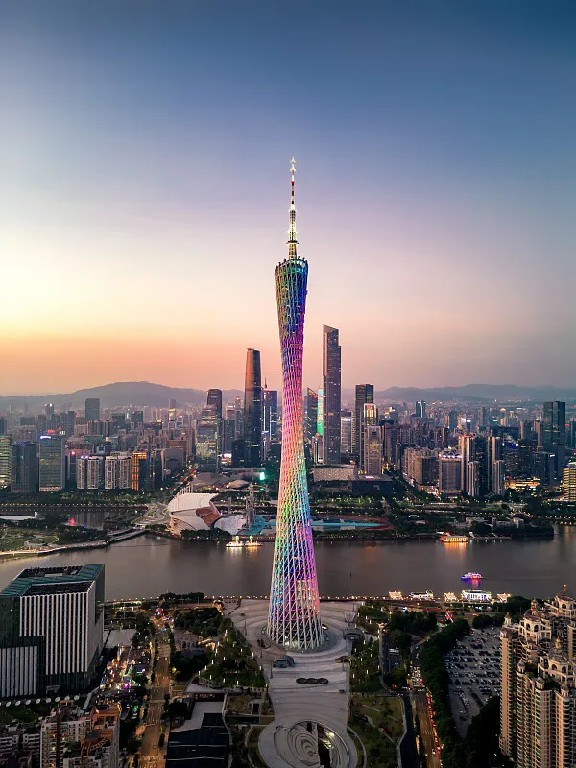Canton: (264, 155, 328, 653)
